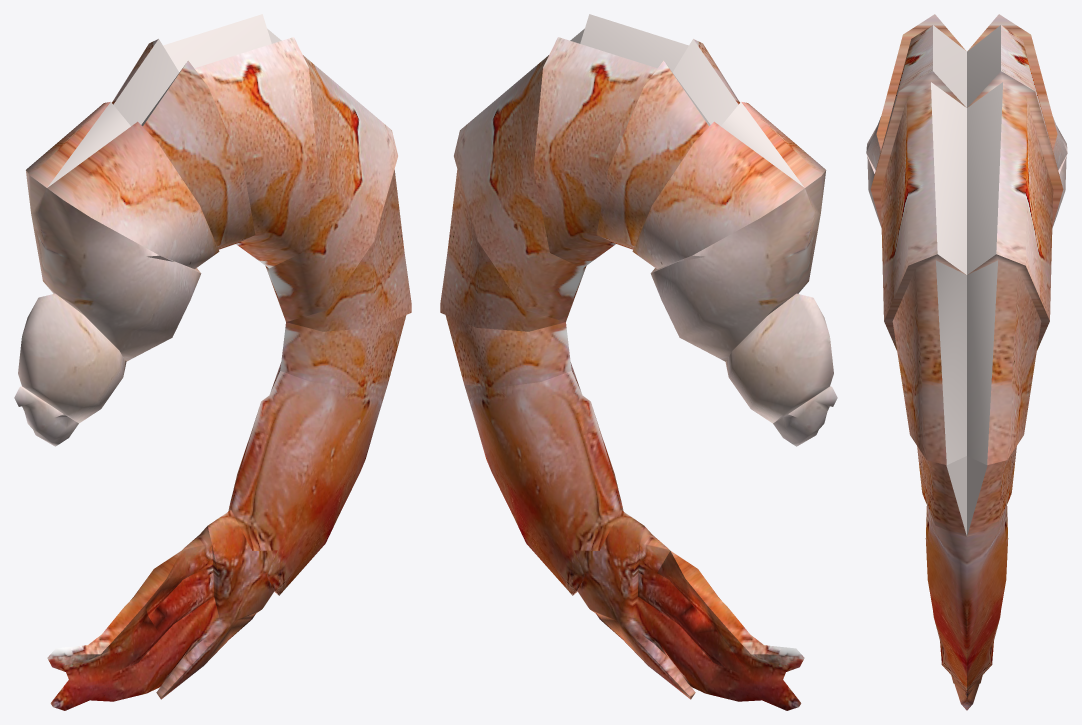
Rendered from shrimp.fbx.
The picture shows the model from 3 angles, left to right: view 1: azimuth 30°, elevation 25°; view 2: azimuth 150°, elevation 25°; view 3: azimuth 270°, elevation 25°; orthographic projection. The views are drawn at different scales.
Parts seen in each view (by area): view 1: Model; view 2: Model; view 3: Model.
Boxes of the visible parts, x1,y1,x2,y2 form: Model: [14, 14, 411, 710]; Model: [440, 14, 837, 710]; Model: [866, 14, 1067, 710].
Bounding box in the file's own units: 7.14 × 11.37 × 2.95.
